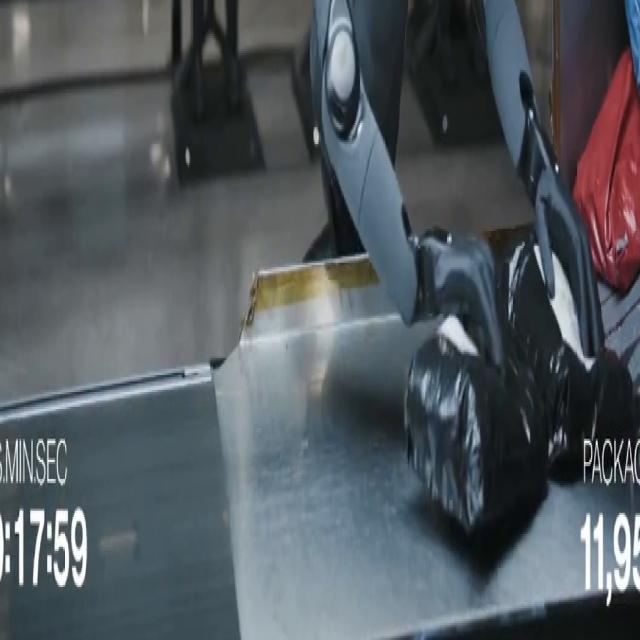package: (405, 231, 637, 534), (497, 236, 636, 470), (405, 316, 548, 534), (573, 49, 639, 294), (625, 0, 639, 93)
